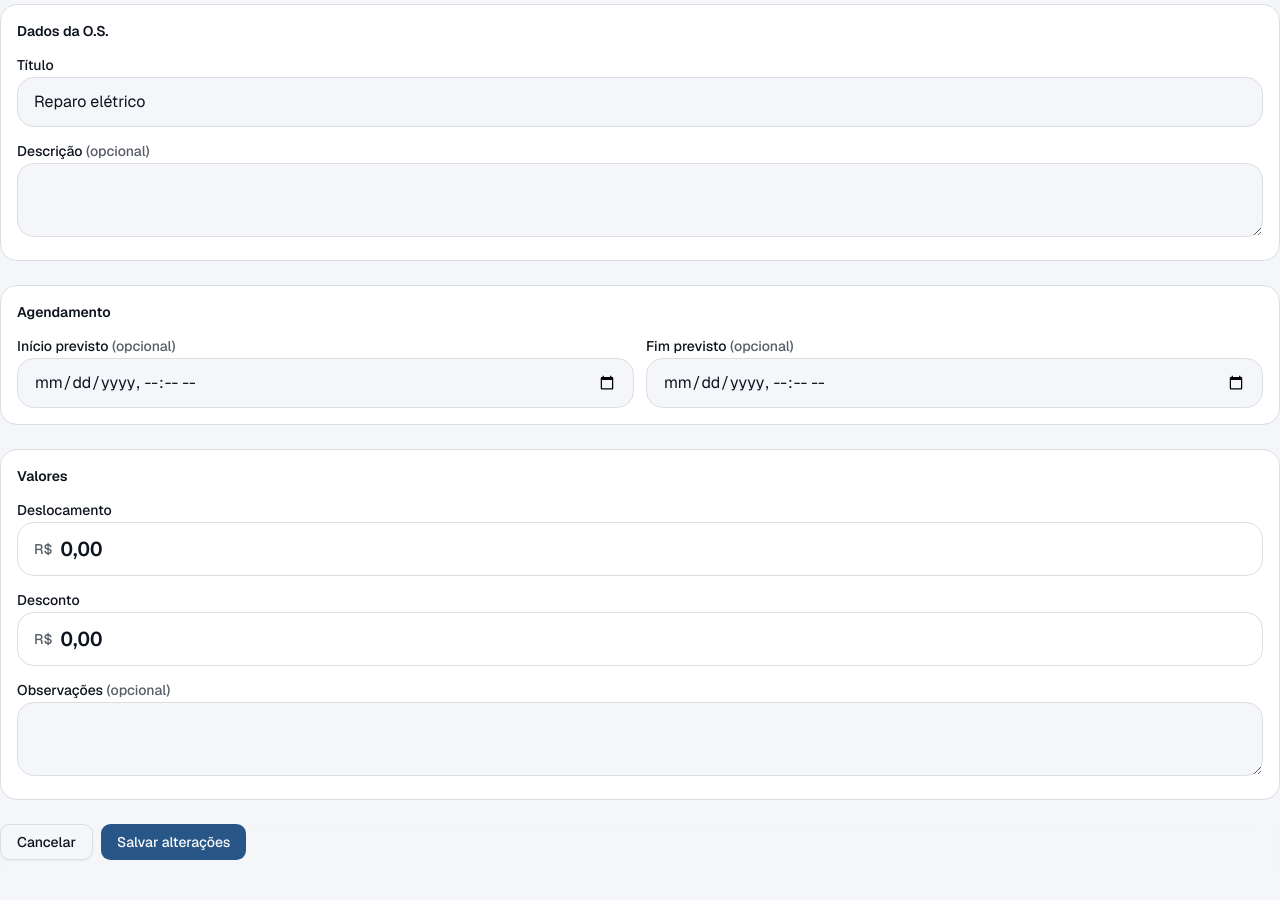
Test: ServiceOrderEdit › EH9: a 422 with field errors maps to the right section, never a bare generic message
(page scrolled)
Click the button "Salvar alterações" at (174, 842), box [101,824,246,860]
(page scrolled)
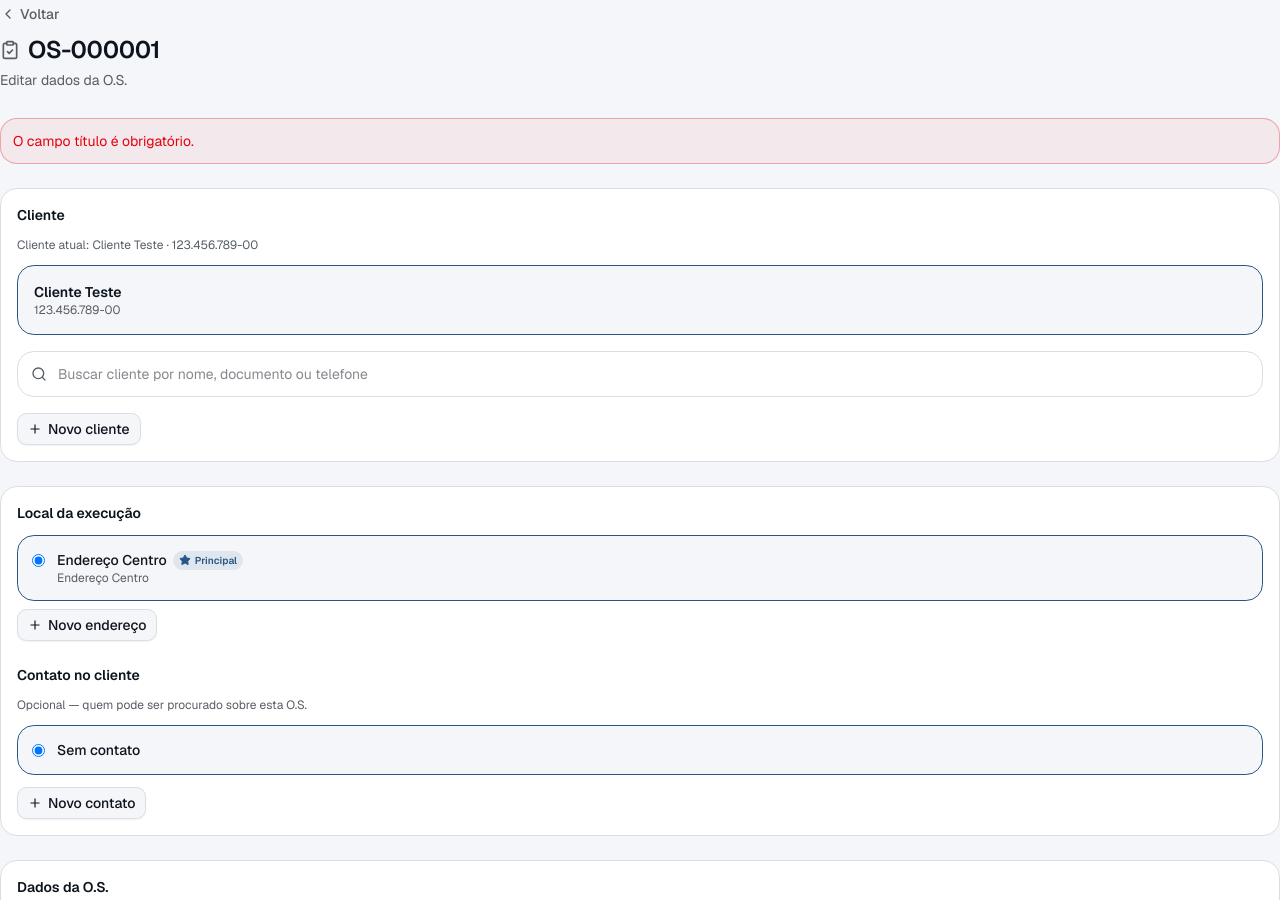
Result: the text "O campo título é obrigatório." is shown at [13,132,194,150]
